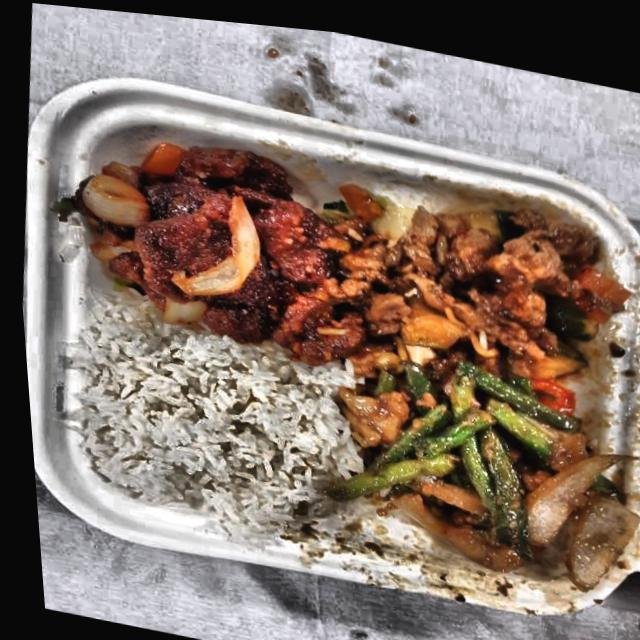Food: (312, 146, 639, 401), (49, 101, 369, 361), (336, 333, 640, 590), (56, 302, 355, 546)
